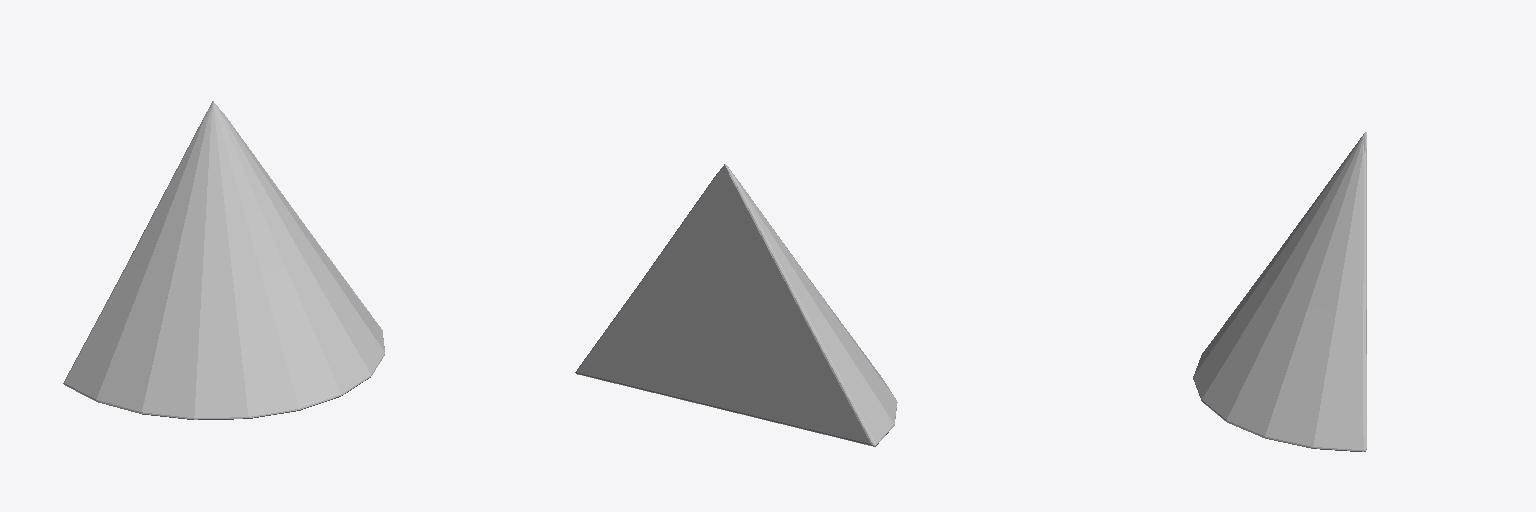
Rendered from medieval_sconce_mcv.obj.
The picture shows the model from 3 angles: view 1: azimuth 30°, elevation 25°; view 2: azimuth 150°, elevation 25°; view 3: azimuth 270°, elevation 25°; orthographic projection.
Parts seen in each view (by area): view 1: pCone2; view 2: pCone2; view 3: pCone2.
Part boxes in pixels (x1,y1,x2,y2): pCone2: (63, 101, 384, 419); pCone2: (575, 164, 897, 446); pCone2: (1193, 132, 1366, 451).
Size of the model in its own units: 29.63 by 23.33 by 14.86.